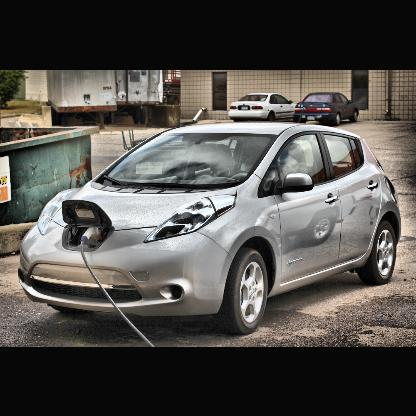Nissan Leaf Hatchback 2012: (15, 107, 403, 336)
